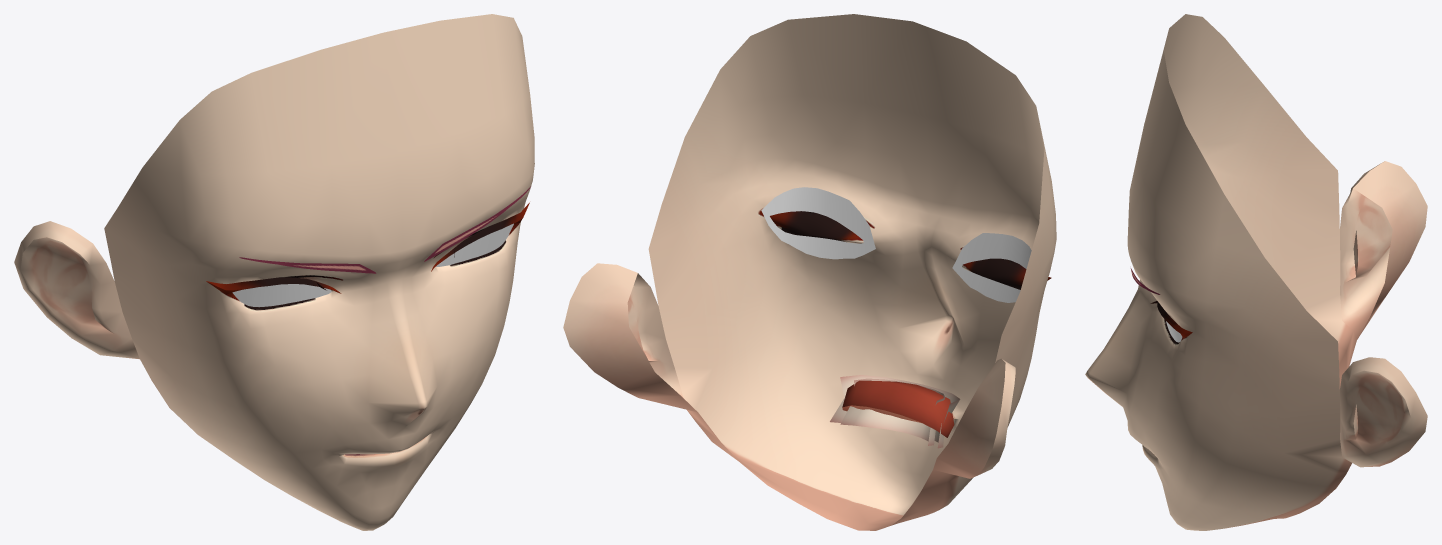
File: Shu.fbx
3 views of the same model, side by side, from view 1: azimuth 30°, elevation 25°; view 2: azimuth 150°, elevation 25°; view 3: azimuth 270°, elevation 25° (orthographic). The views are drawn at different scales.
Parts seen in each view (by area): view 1: M_Head, M_Eye_B_Def, M_Mth_B_Def, M_PupALL_R_A_Def, M_Brw_B_Def, M_PupALL_L_A_Def; view 2: M_Head, M_Eye_B_Def, M_Mth_B_Def, M_PupALL_L_A_Def, M_PupALL_R_A_Def; view 3: M_Head, M_Eye_B_Def, M_Mth_B_Def.
Part boxes in pixels (x1=…): M_Head: x1=14, y1=14, x2=534, y2=377; M_Eye_B_Def: x1=137, y1=137, x2=534, y2=411; M_Mth_B_Def: x1=140, y1=355, x2=494, y2=530; M_PupALL_R_A_Def: x1=232, y1=284, x2=331, y2=307; M_Brw_B_Def: x1=239, y1=186, x2=530, y2=273; M_PupALL_L_A_Def: x1=436, y1=223, x2=513, y2=266; M_Head: x1=563, y1=14, x2=1055, y2=478; M_Eye_B_Def: x1=680, y1=135, x2=1056, y2=417; M_Mth_B_Def: x1=682, y1=318, x2=1018, y2=530; M_PupALL_L_A_Def: x1=761, y1=187, x2=875, y2=259; M_PupALL_R_A_Def: x1=952, y1=233, x2=1031, y2=302; M_Head: x1=1129, y1=14, x2=1427, y2=467; M_Eye_B_Def: x1=1085, y1=118, x2=1284, y2=453; M_Mth_B_Def: x1=1086, y1=319, x2=1356, y2=530.
Bounding box in the file's own units: 0.1729 × 0.1808 × 0.1176.
Materials: 5 (3 with a texture image).
